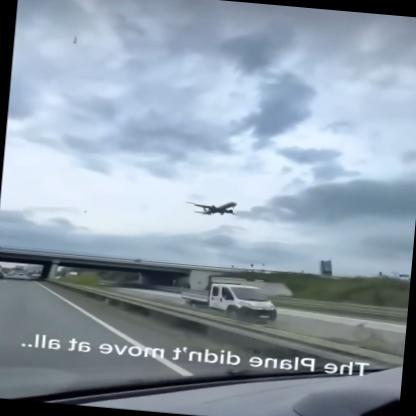plane: (181, 194, 246, 223)
